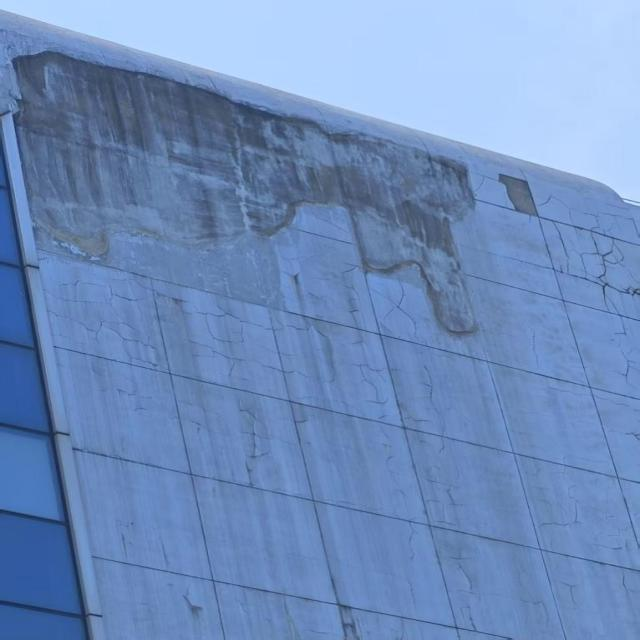crack: (258, 251, 489, 623), (539, 200, 638, 393), (49, 262, 168, 372), (163, 292, 282, 397), (180, 391, 291, 489), (540, 445, 585, 543), (544, 570, 593, 612)
mildew: (11, 54, 489, 342)
spalling: (487, 169, 550, 224)
